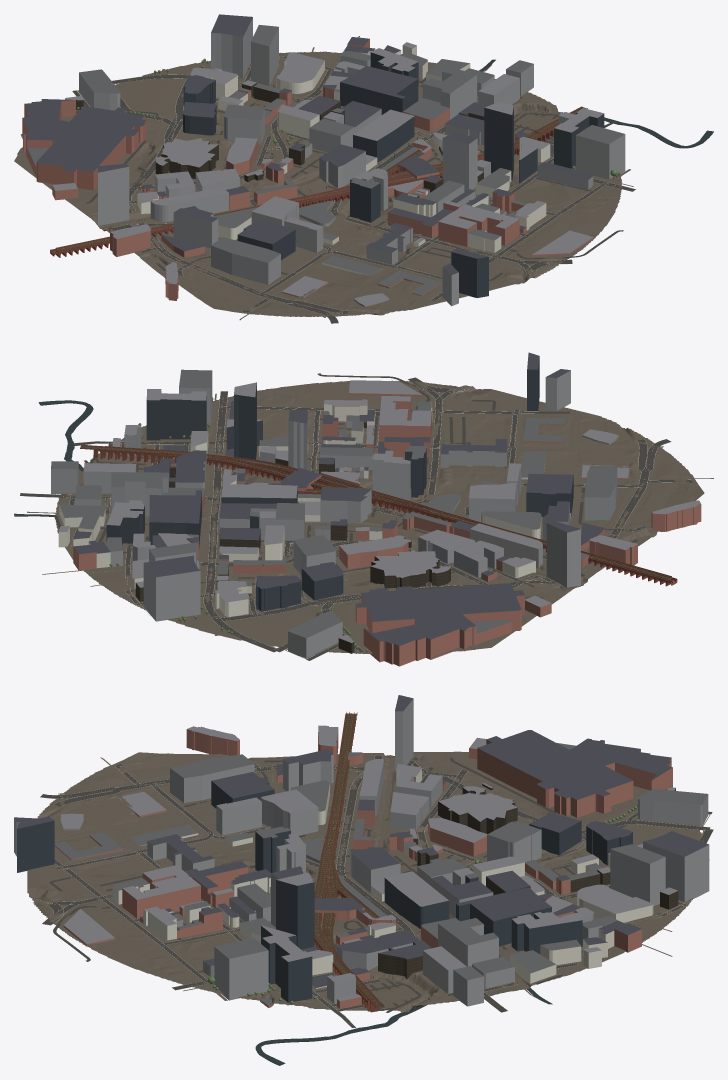
Rendered from context_m2.glb.
3 renders of one model, top to bottom at view 1: azimuth 30°, elevation 25°; view 2: azimuth 150°, elevation 25°; view 3: azimuth 270°, elevation 25°, orthographic. The views are drawn at different scales.
Parts seen in each view (by area): view 1: bldg_23112318, Terrain_EA_DTM, road_3697914, bldg_31176345, viaduct_31178960_deck; view 2: bldg_23112318, Terrain_EA_DTM, road_3697914, bldg_31176345, viaduct_31178960_deck; view 3: bldg_23112318, Terrain_EA_DTM, road_3697914, viaduct_31178960_deck, bldg_31176345.
Part boxes in pixels (bbox=[...]): bldg_23112318: bbox=[22, 14, 713, 322]; Terrain_EA_DTM: bbox=[14, 36, 633, 320]; road_3697914: bbox=[72, 57, 635, 323]; bldg_31176345: bbox=[65, 71, 484, 197]; viaduct_31178960_deck: bbox=[56, 107, 586, 251]; bldg_23112318: bbox=[14, 352, 701, 666]; Terrain_EA_DTM: bbox=[27, 380, 713, 658]; road_3697914: bbox=[20, 373, 692, 660]; bldg_31176345: bbox=[135, 422, 450, 653]; viaduct_31178960_deck: bbox=[80, 445, 671, 580]; bldg_23112318: bbox=[14, 695, 713, 1065]; Terrain_EA_DTM: bbox=[27, 751, 710, 1012]; road_3697914: bbox=[33, 756, 713, 1027]; viaduct_31178960_deck: bbox=[314, 714, 383, 1007]; bldg_31176345: bbox=[325, 784, 678, 979].
Size of the model in its own units: 945 by 97.71 by 814.
Materials: 5 (5 with a texture image).
